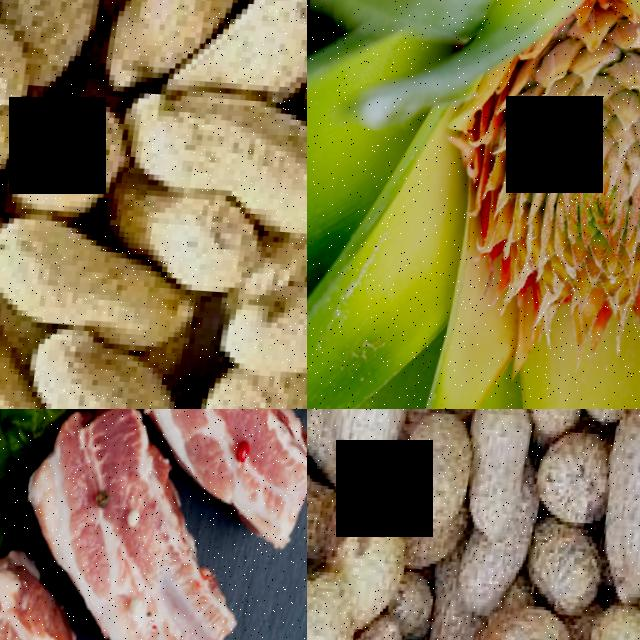peanuts: (0, 207, 209, 362), (118, 84, 307, 244), (393, 411, 480, 534), (465, 409, 538, 538), (594, 409, 640, 605), (321, 409, 417, 476), (307, 567, 368, 640)
pork belly: (20, 409, 193, 606), (102, 409, 285, 468)
